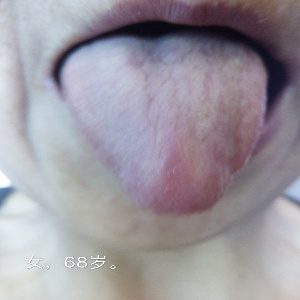st: (59, 35, 272, 223)
